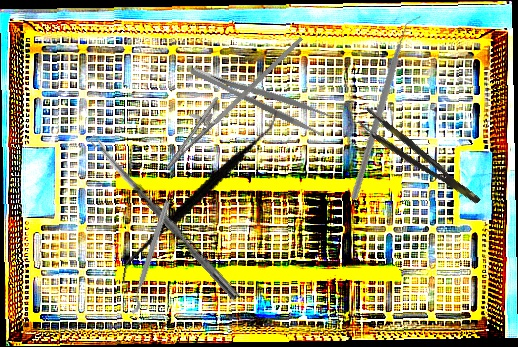Chopper: (310, 15, 464, 201)
Dressing Forceps: (188, 52, 333, 139)
Fixation Ring: (119, 196, 174, 317)
Needle Holder: (154, 13, 304, 185)
Spatula Surgical: (121, 86, 280, 308)
Surgical Spoon: (88, 133, 241, 301)
Tissue Forceps: (355, 106, 483, 215)
